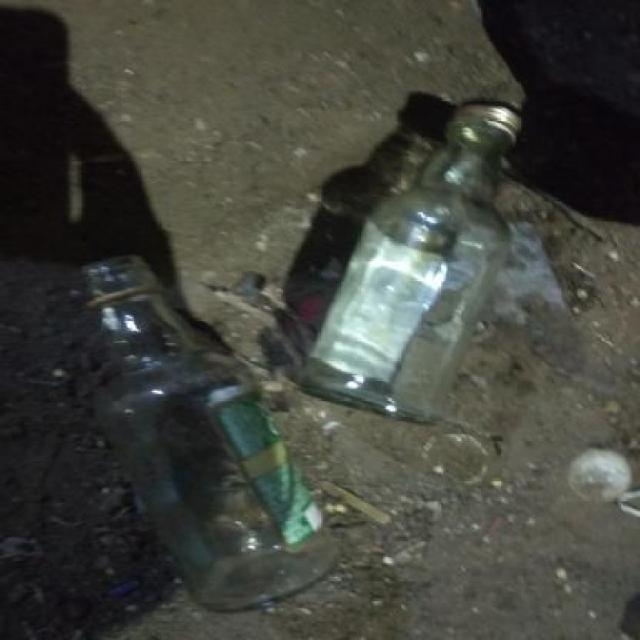garbage: (329, 57, 604, 532), (73, 200, 380, 606)
